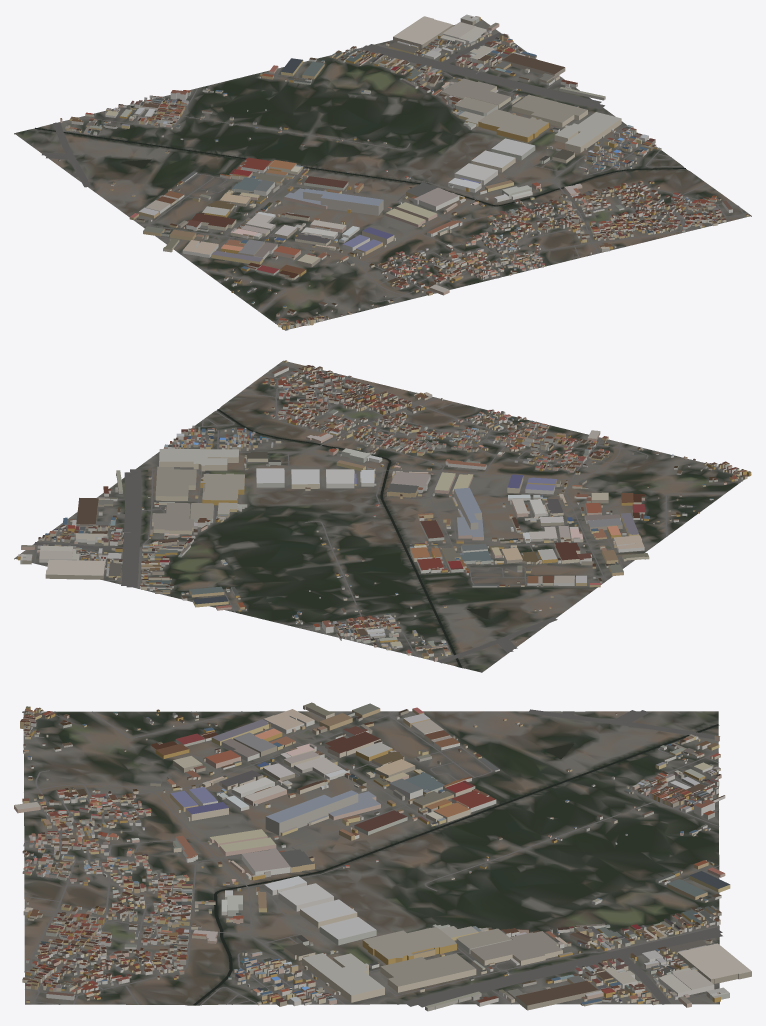
The picture shows the model from 3 angles, top to bottom: view 1: azimuth 30°, elevation 25°; view 2: azimuth 150°, elevation 25°; view 3: azimuth 270°, elevation 25°; orthographic projection. The views are drawn at different scales.
Parts seen in each view (by area): view 1: ground, buildings, roads, water; view 2: ground, buildings, roads, water; view 3: ground, buildings, roads, water.
Part boxes in pixels (box(x1,y1,x2,y2)): ground: box(14, 18, 751, 329); buildings: box(58, 14, 748, 329); roads: box(40, 31, 748, 330); water: box(35, 127, 685, 206); ground: box(14, 360, 748, 672); buildings: box(18, 360, 751, 661); roads: box(34, 362, 742, 663); water: box(217, 409, 488, 667); ground: box(23, 711, 719, 1005); buildings: box(14, 702, 751, 1011); roads: box(22, 709, 722, 1007); water: box(193, 724, 719, 1005).
Size of the model in its own units: 1461 by 33.25 by 1489.
